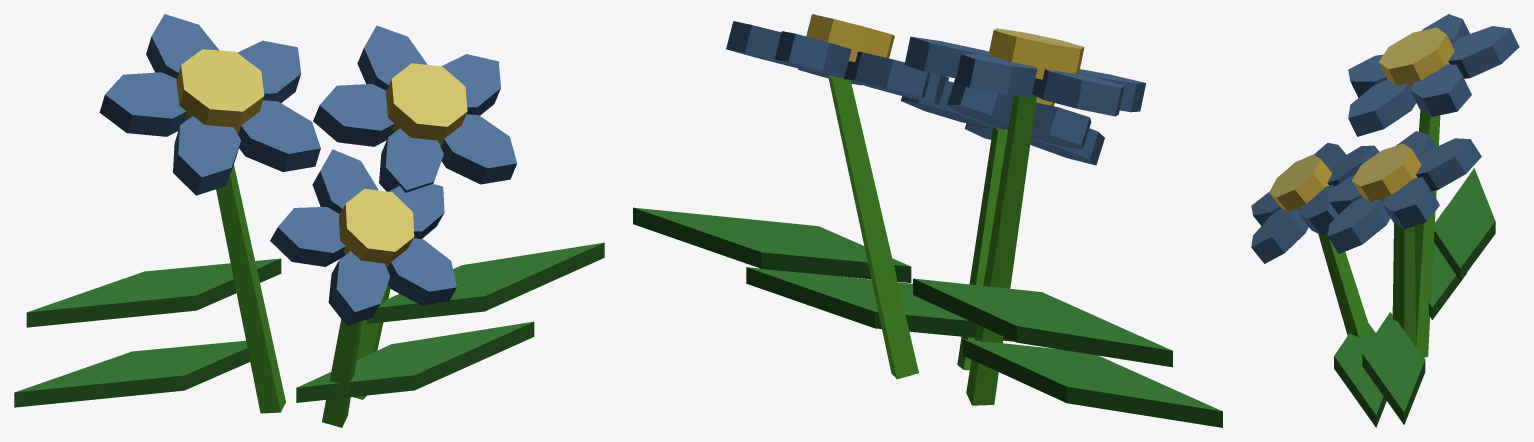
Rendered from flower_blue.fbx.
The picture shows the model from 3 angles, left to right: view 1: azimuth 30°, elevation 25°; view 2: azimuth 150°, elevation 25°; view 3: azimuth 270°, elevation 25°; orthographic projection. The views are drawn at different scales.
Parts seen in each view (by area): view 1: flower_blue; view 2: flower_blue; view 3: flower_blue.
Part boxes in pixels (x1,y1,x2,y2): flower_blue: [14, 14, 604, 427]; flower_blue: [633, 14, 1222, 427]; flower_blue: [1251, 14, 1519, 427].
Bounding box in the file's own units: 0.39 × 0.2432 × 0.1912.
